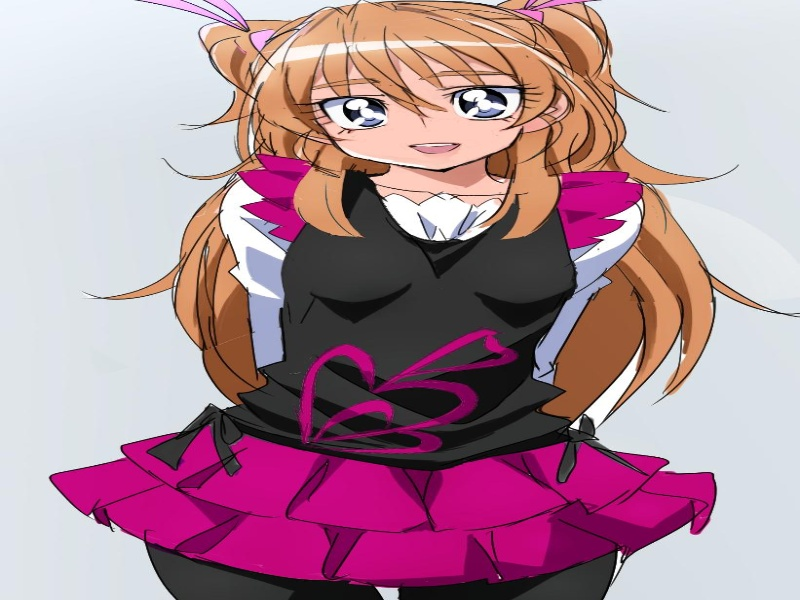dress: (70, 168, 750, 588)
person: (228, 6, 602, 183)
